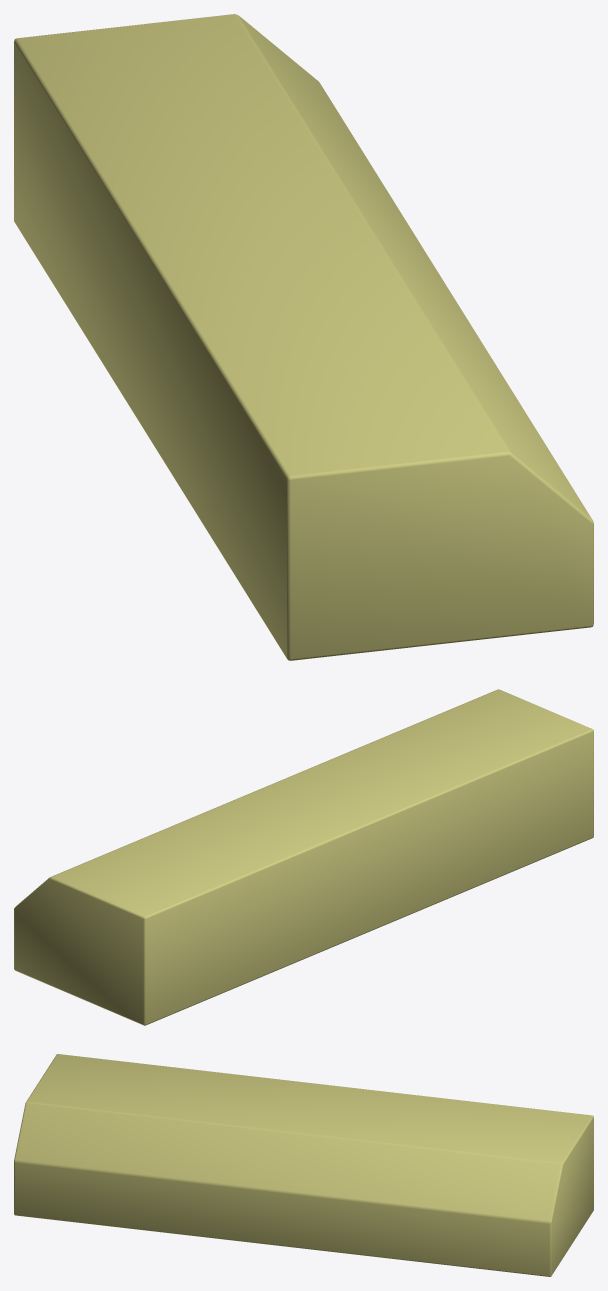
File: trial.obj
3 views of the same model, one above another, from view 1: azimuth 30°, elevation 25°; view 2: azimuth 150°, elevation 25°; view 3: azimuth 270°, elevation 25° (orthographic). The views are drawn at different scales.
Visible parts, largest first — view 1: Cube; view 2: Cube; view 3: Cube.
Part boxes in pixels (<box>): Cube: <box>14,14,593,660</box>; Cube: <box>14,689,593,1025</box>; Cube: <box>14,1054,593,1276</box>.
Bounding box in the file's own units: 22.54 × 7.84 × 42.98.
